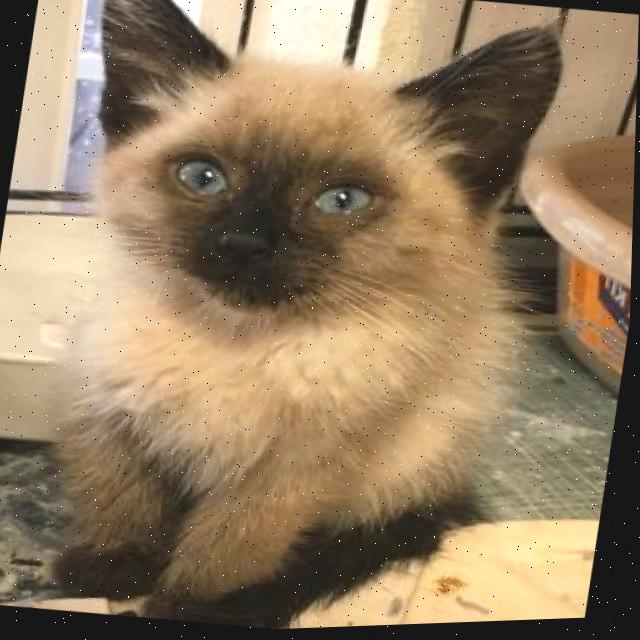Siamese: (4, 0, 582, 639)
